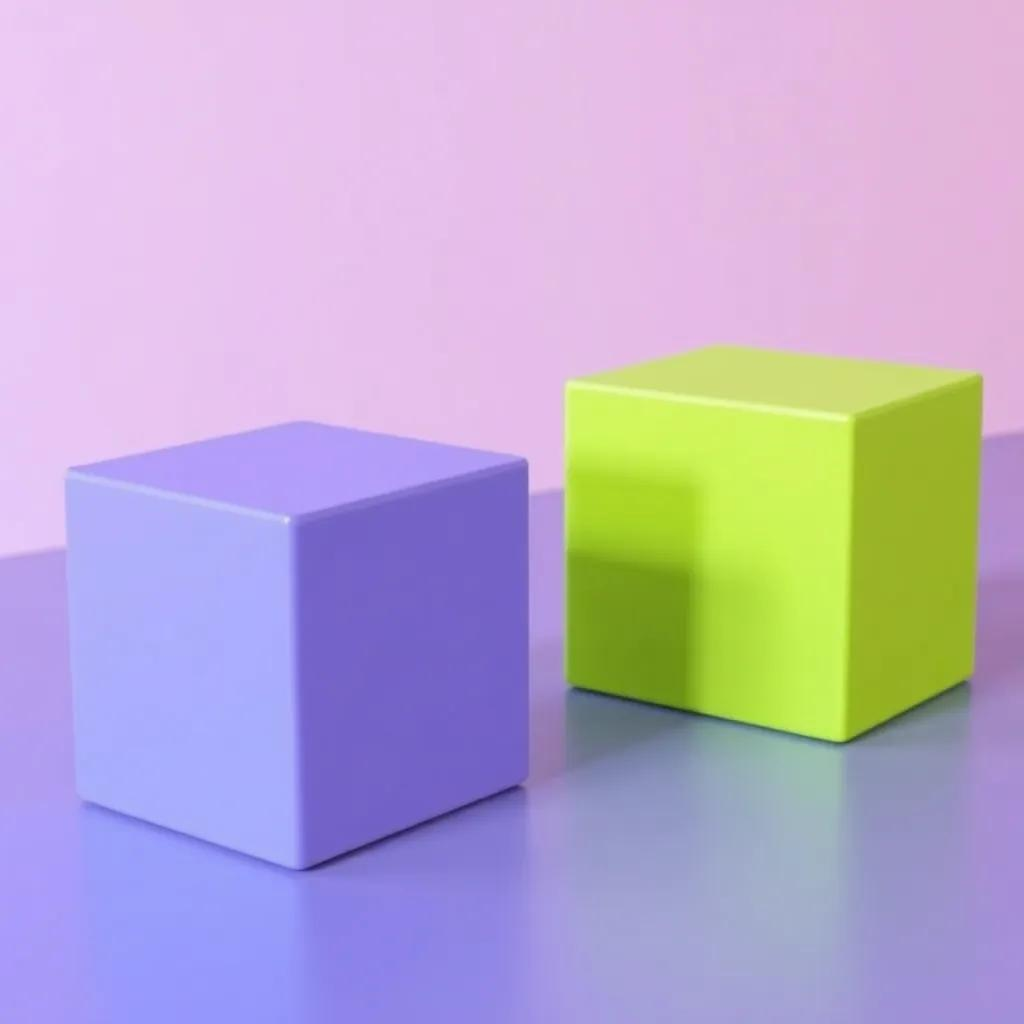cube: (63, 417, 531, 871), (562, 341, 984, 743)
